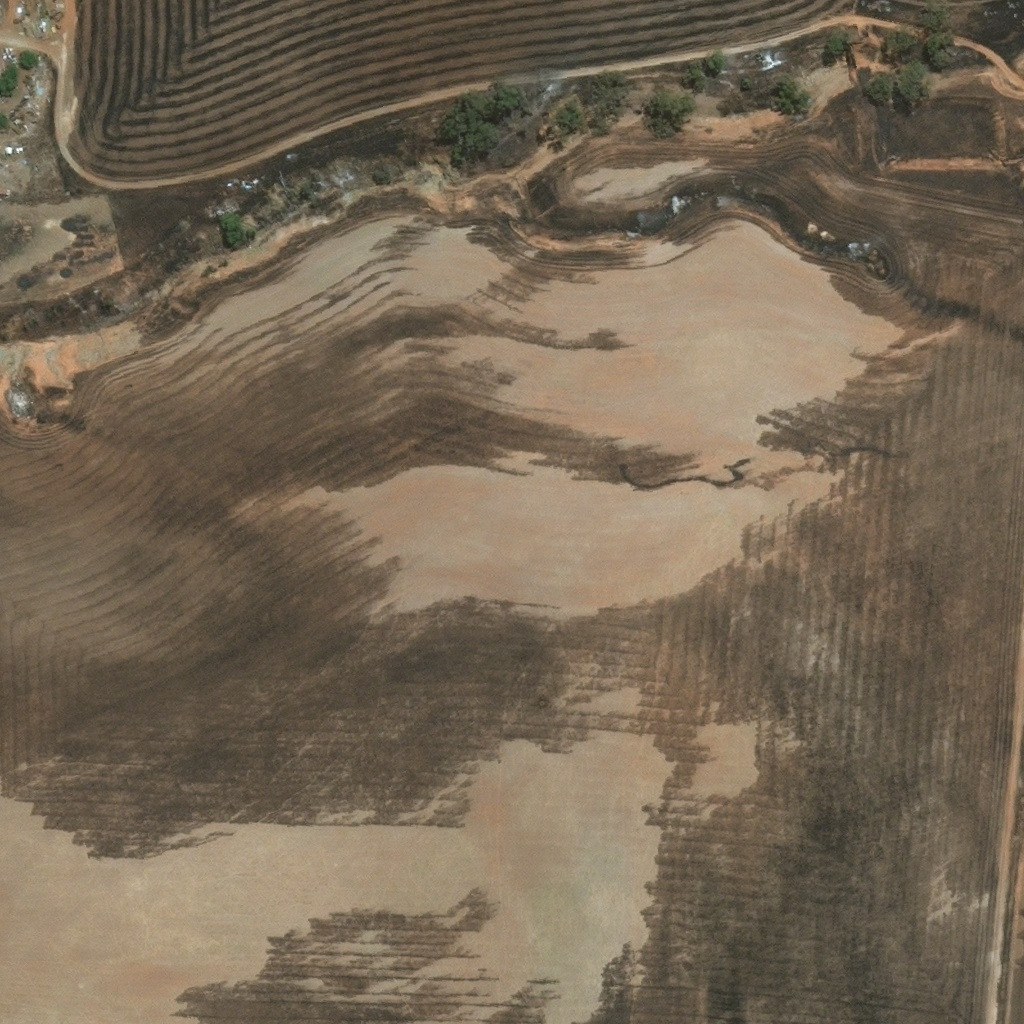2 major-damage: (7, 145, 23, 151)
